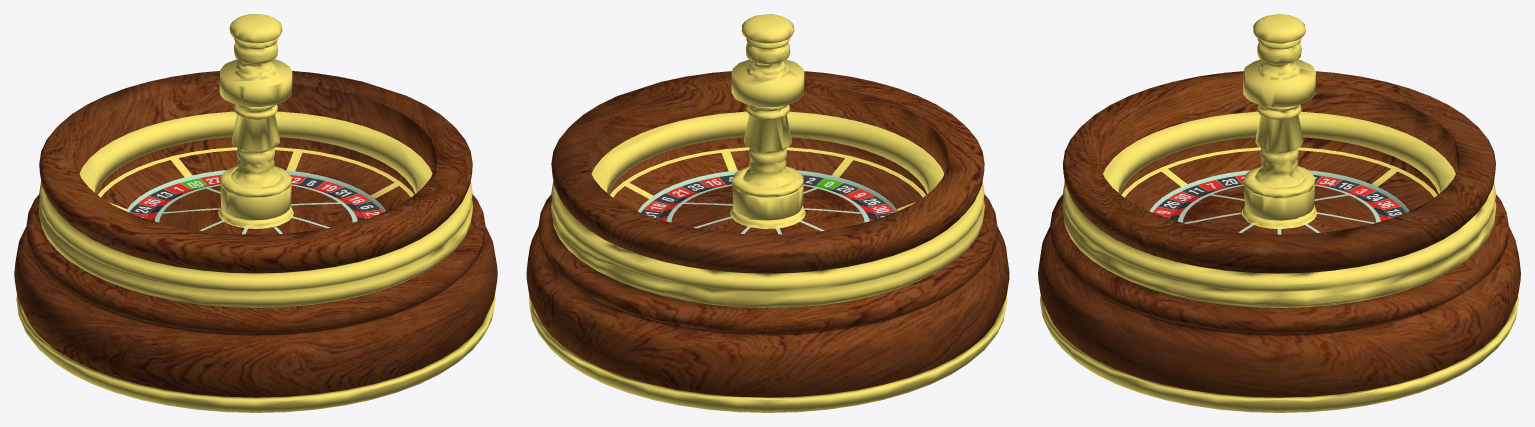
The model's file is roulette.glb.
The picture shows the model from 3 angles, left to right: view 1: azimuth 30°, elevation 25°; view 2: azimuth 150°, elevation 25°; view 3: azimuth 270°, elevation 25°; orthographic projection.
Parts seen in each view (by area): view 1: Cylinder_Material.002_0, Cylinder_Material.001_0, Cylinder_Material.003_0, Cylinder_Material.004_0; view 2: Cylinder_Material.002_0, Cylinder_Material.001_0, Cylinder_Material.003_0, Cylinder_Material.004_0; view 3: Cylinder_Material.002_0, Cylinder_Material.001_0, Cylinder_Material.003_0, Cylinder_Material.004_0.
Boxes of the visible parts, x1,y1,x2,y2 form: Cylinder_Material.002_0: [14, 71, 497, 397]; Cylinder_Material.001_0: [16, 14, 495, 412]; Cylinder_Material.003_0: [129, 174, 382, 221]; Cylinder_Material.004_0: [126, 170, 385, 234]; Cylinder_Material.002_0: [526, 71, 1009, 397]; Cylinder_Material.001_0: [528, 14, 1007, 412]; Cylinder_Material.003_0: [641, 175, 894, 221]; Cylinder_Material.004_0: [638, 170, 897, 234]; Cylinder_Material.002_0: [1038, 71, 1520, 397]; Cylinder_Material.001_0: [1040, 14, 1518, 412]; Cylinder_Material.003_0: [1152, 175, 1406, 221]; Cylinder_Material.004_0: [1149, 170, 1409, 234].
Bounding box in the file's own units: 2.14 × 1.45 × 2.14.
4 materials, 2 textured.
